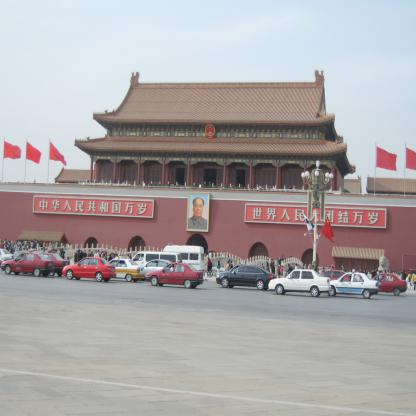Car: (0, 248, 407, 296)
